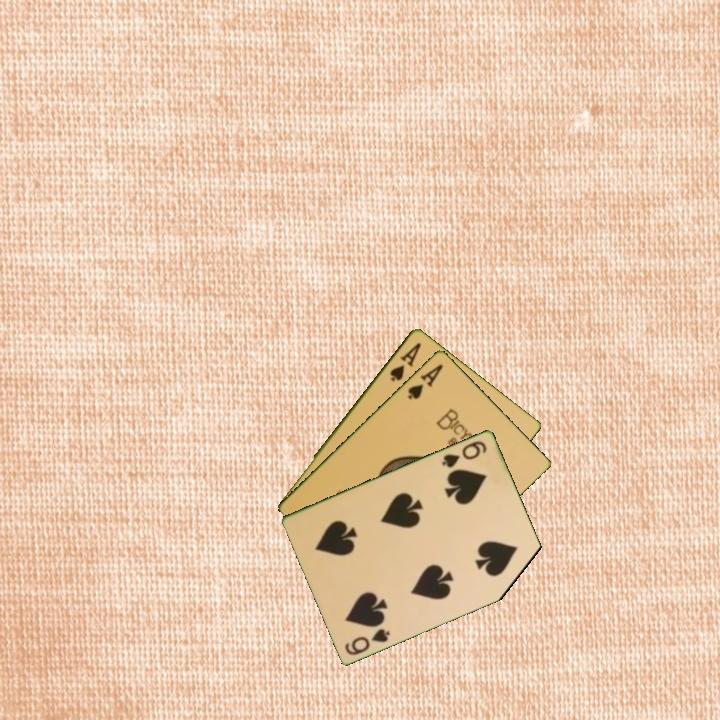6s: (438, 437, 490, 470), (341, 625, 393, 658)
As: (404, 360, 446, 402), (386, 338, 424, 384)
